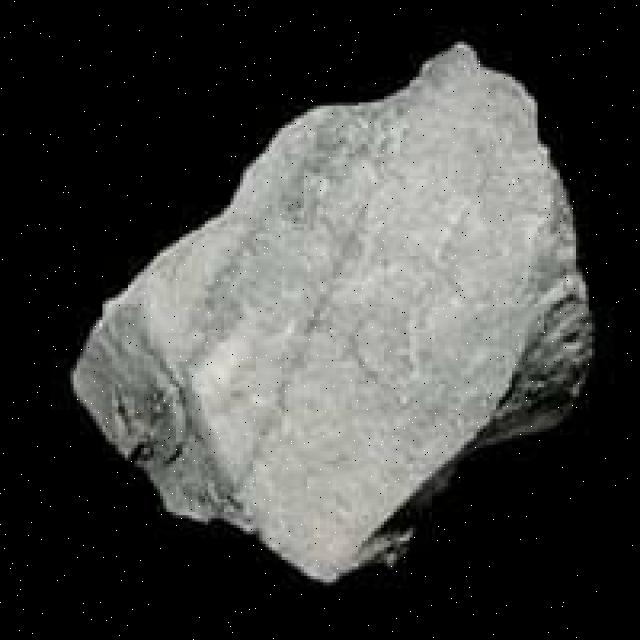Metamorphic: (74, 29, 602, 582)
